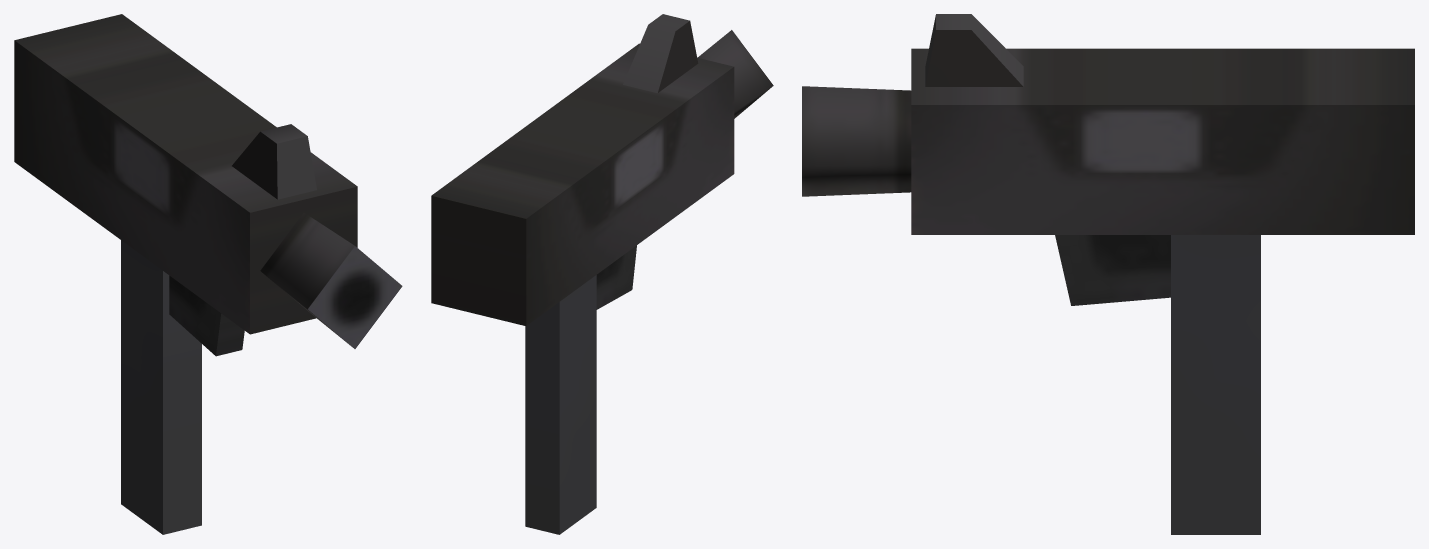
Rendered from w_mac10.FBX.
The picture shows the model from 3 angles, left to right: view 1: azimuth 30°, elevation 25°; view 2: azimuth 150°, elevation 25°; view 3: azimuth 270°, elevation 25°; orthographic projection. The views are drawn at different scales.
Parts seen in each view (by area): view 1: w_mac10; view 2: w_mac10; view 3: w_mac10.
Boxes of the visible parts, <box> form: w_mac10: <box>14,14,402,534</box>; w_mac10: <box>431,14,773,534</box>; w_mac10: <box>802,14,1414,534</box>.
Bounding box in the file's own units: 5.29 × 22.09 × 24.4.
1 material, 1 textured.
